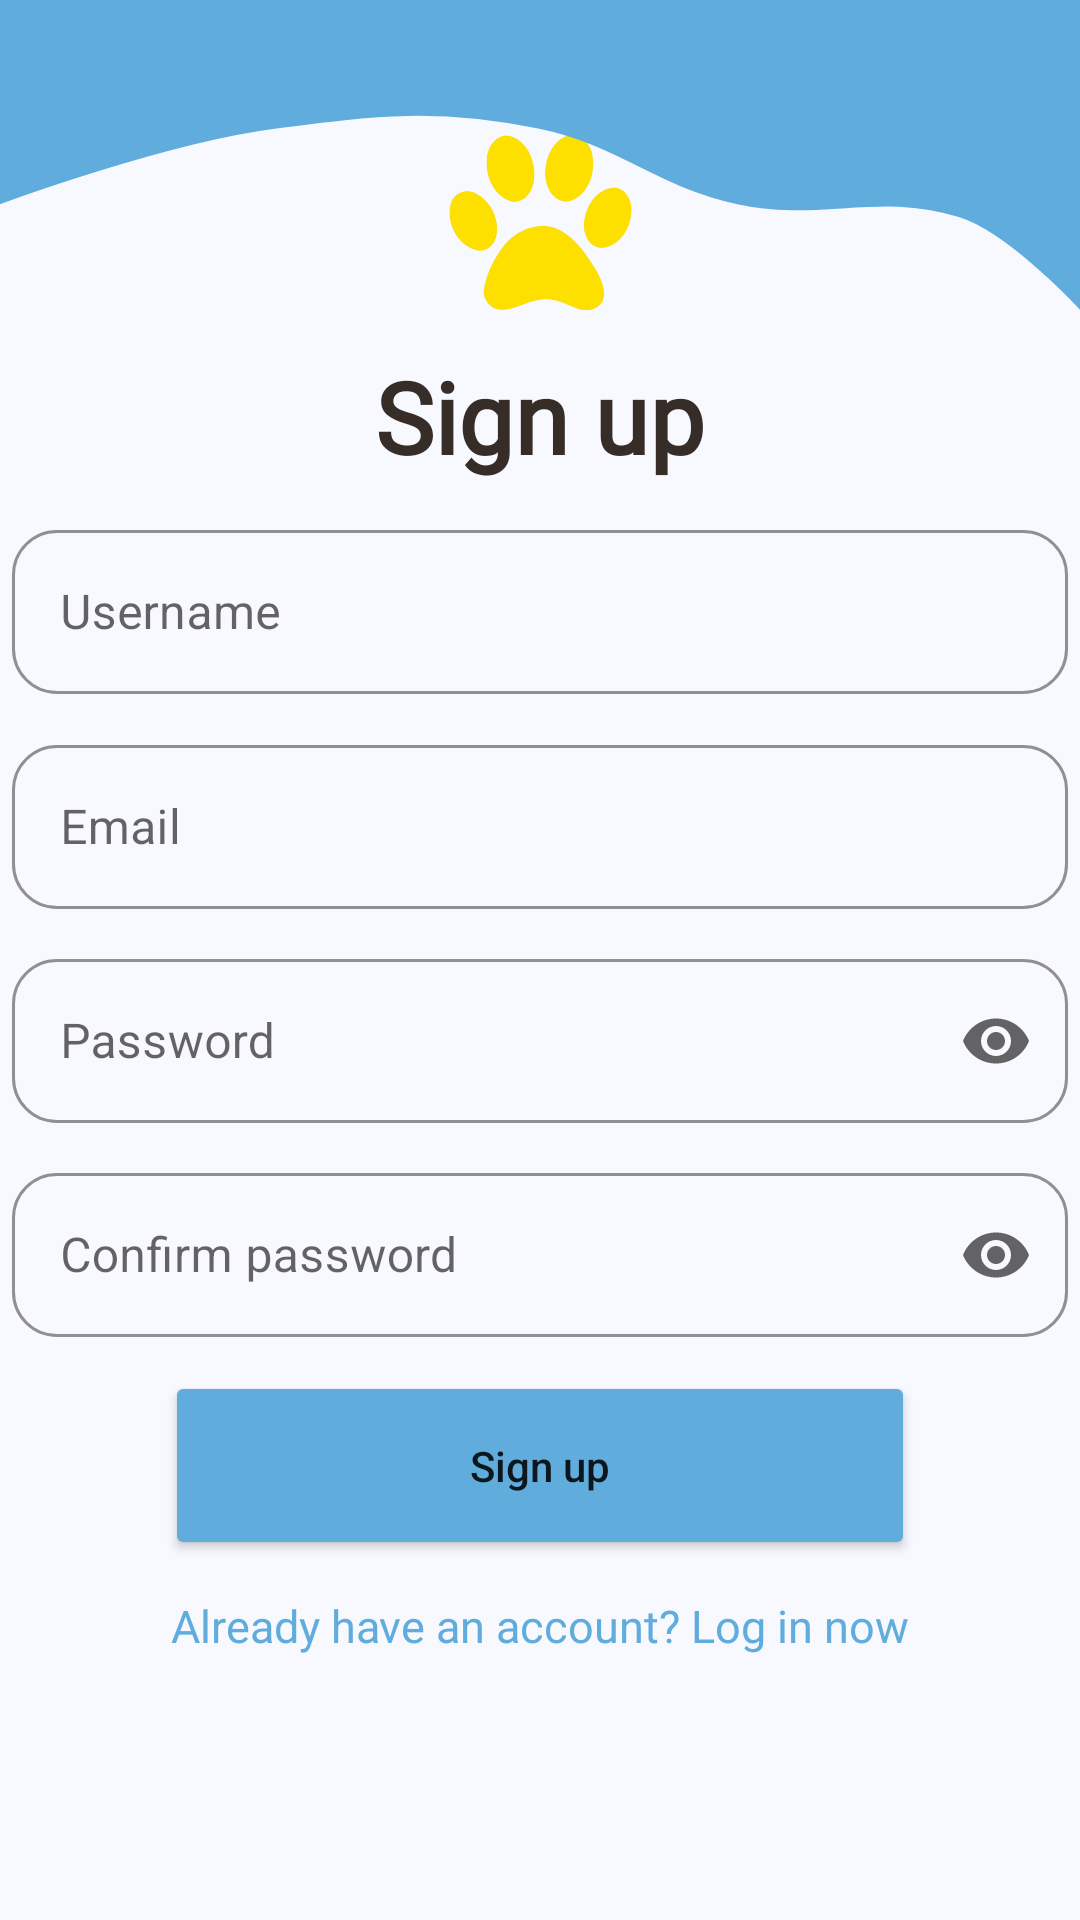

Icon click points for this 1080x1920 phone screenshot, format point (x, y):
darkyellowpaw: point (540, 222)
